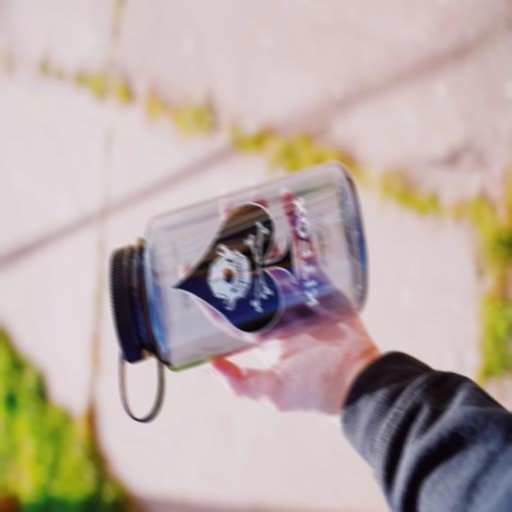bottle: (107, 158, 370, 424)
